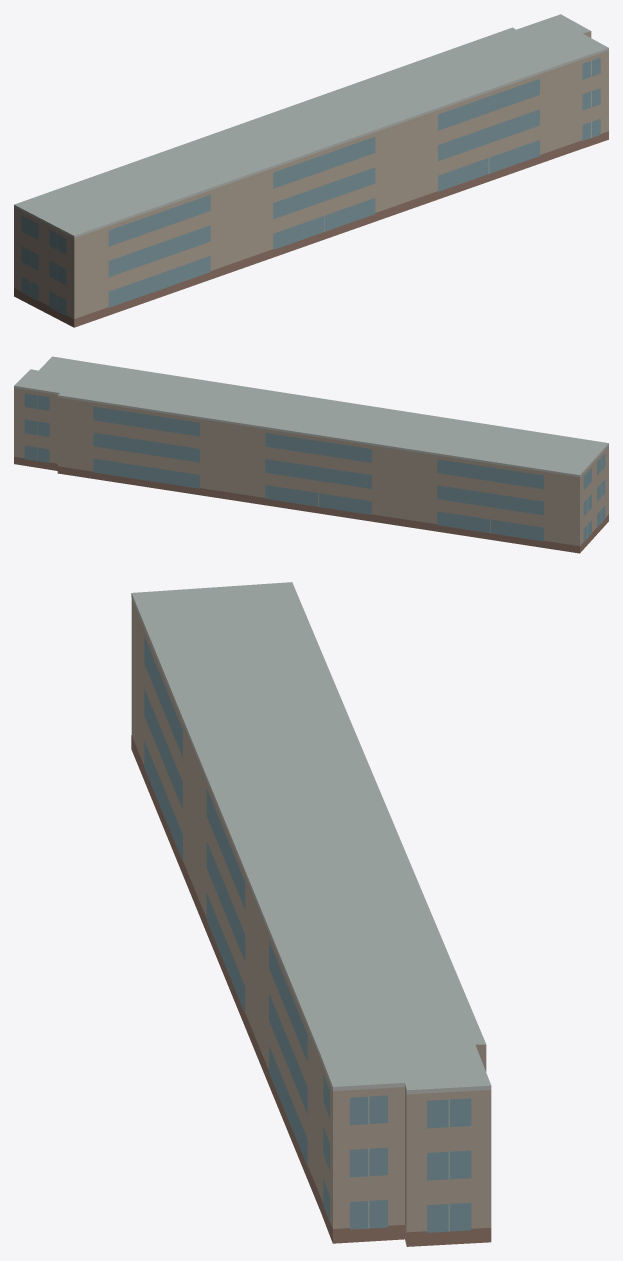
File: survey-upis-32910501.glb
3 views of the same model, one above another, from view 1: azimuth 30°, elevation 25°; view 2: azimuth 150°, elevation 25°; view 3: azimuth 270°, elevation 25° (orthographic). The views are drawn at different scales.
Parts seen in each view (by area): view 1: survey-upis-32910501.tmp; view 2: survey-upis-32910501.tmp; view 3: survey-upis-32910501.tmp.
Part boxes in pixels (<box>): survey-upis-32910501.tmp: <box>14,14,608,327</box>; survey-upis-32910501.tmp: <box>14,356,608,553</box>; survey-upis-32910501.tmp: <box>131,582,491,1246</box>.
Size of the model in its own units: 63.71 by 9.15 by 19.07.
